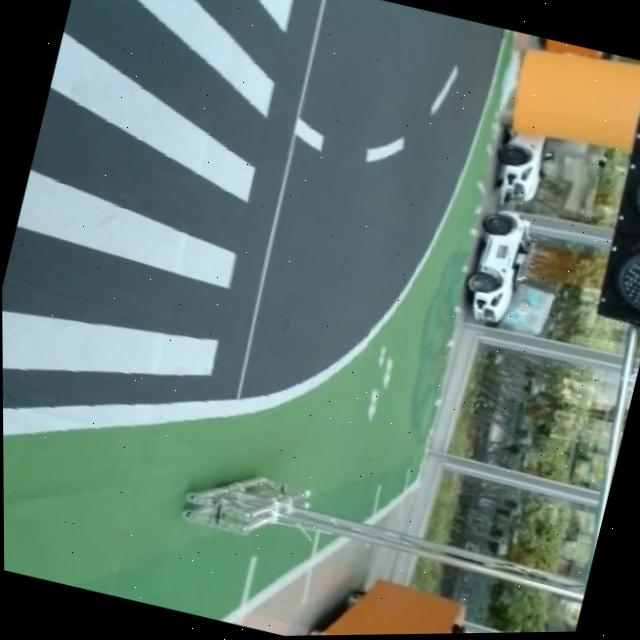traffic-light: (585, 63, 640, 333)
